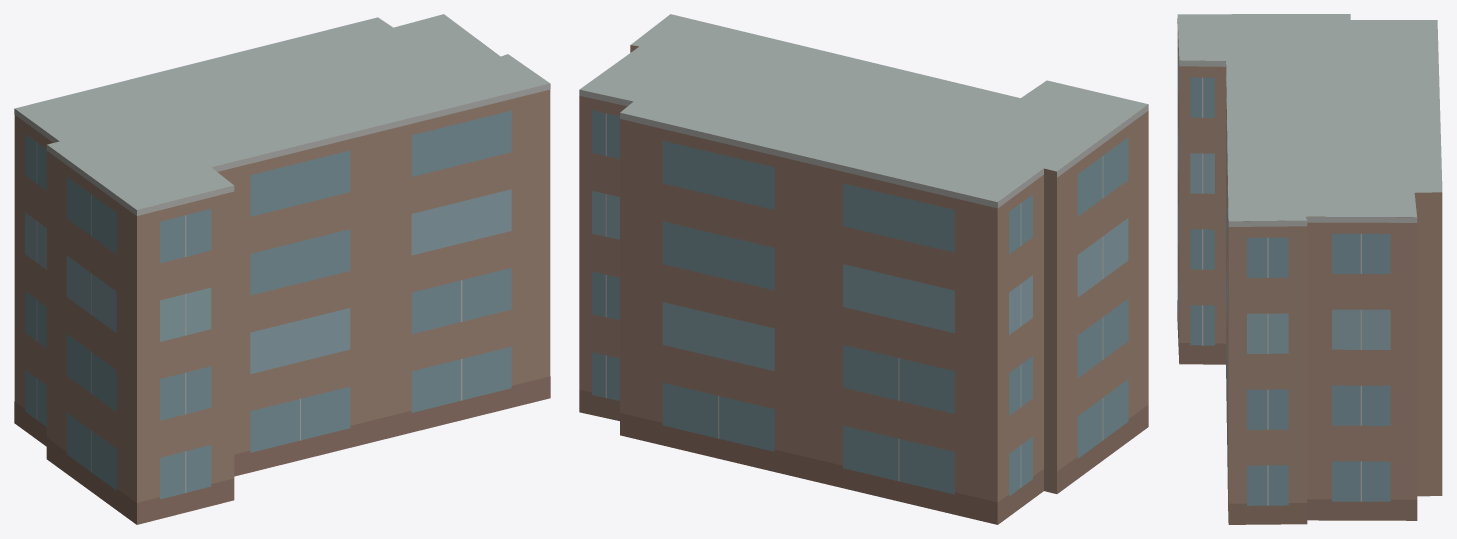
Rendered from survey-upis-32731741.glb.
The picture shows the model from 3 angles, left to right: view 1: azimuth 30°, elevation 25°; view 2: azimuth 150°, elevation 25°; view 3: azimuth 270°, elevation 25°; orthographic projection. The views are drawn at different scales.
Visible parts, largest first — view 1: survey-upis-32731741.tmp; view 2: survey-upis-32731741.tmp; view 3: survey-upis-32731741.tmp.
Part boxes in pixels (x1,y1,x2,y2): survey-upis-32731741.tmp: (14,14,550,524); survey-upis-32731741.tmp: (579,14,1148,524); survey-upis-32731741.tmp: (1177,14,1442,524).
Bounding box in the file's own units: 18.75 × 12.8 × 10.14.
